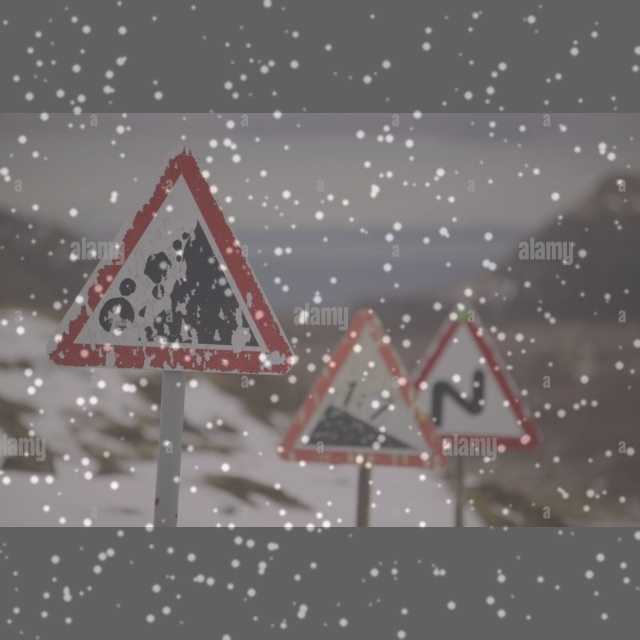Falling_Rocks: (63, 151, 282, 372)
